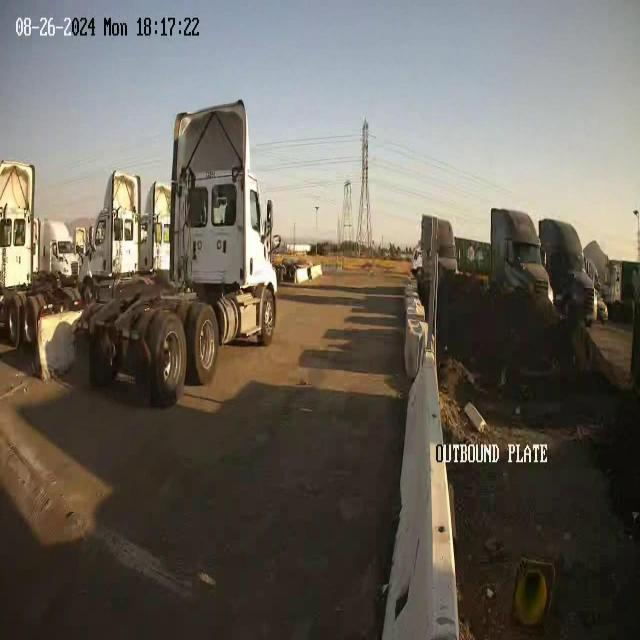BOBTAIL: (78, 97, 279, 407)
